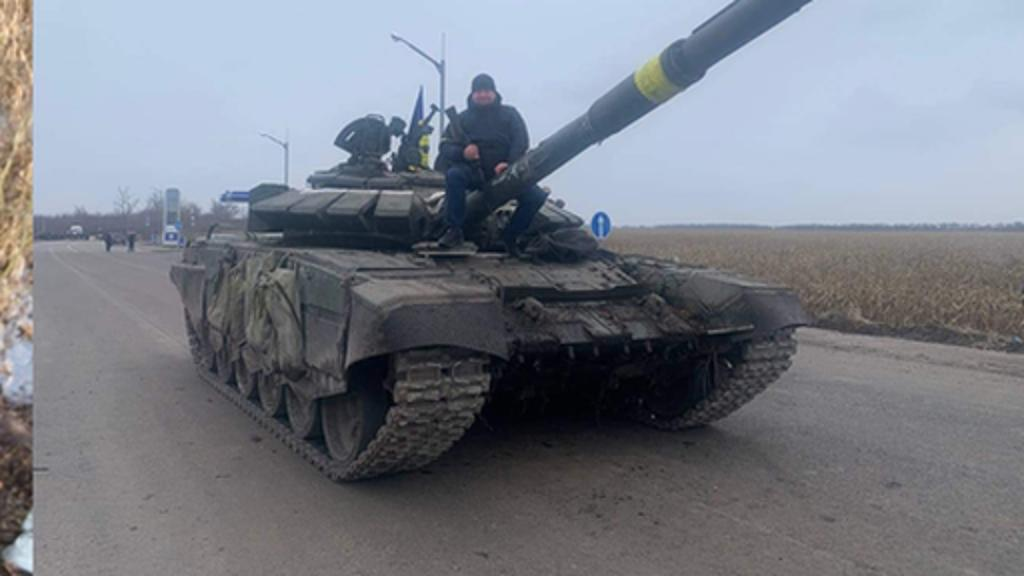TANK: (162, 4, 828, 482)
